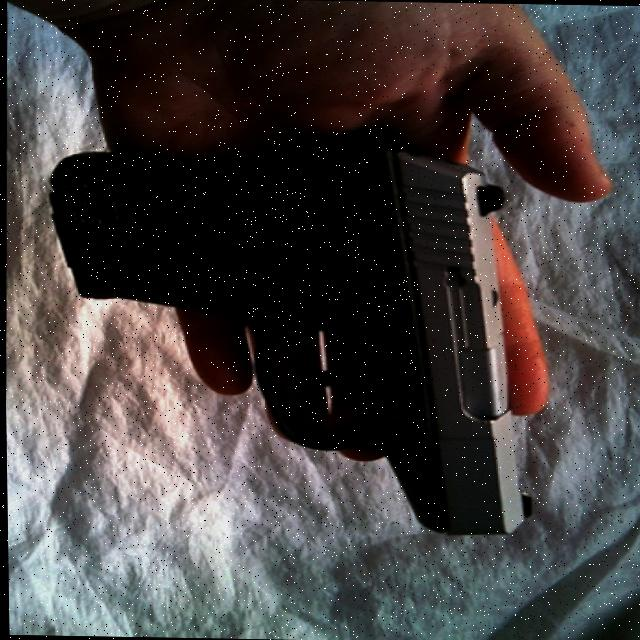pistol: (33, 118, 547, 539)
